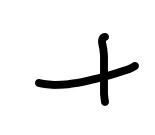plus: (37, 34, 137, 106)
